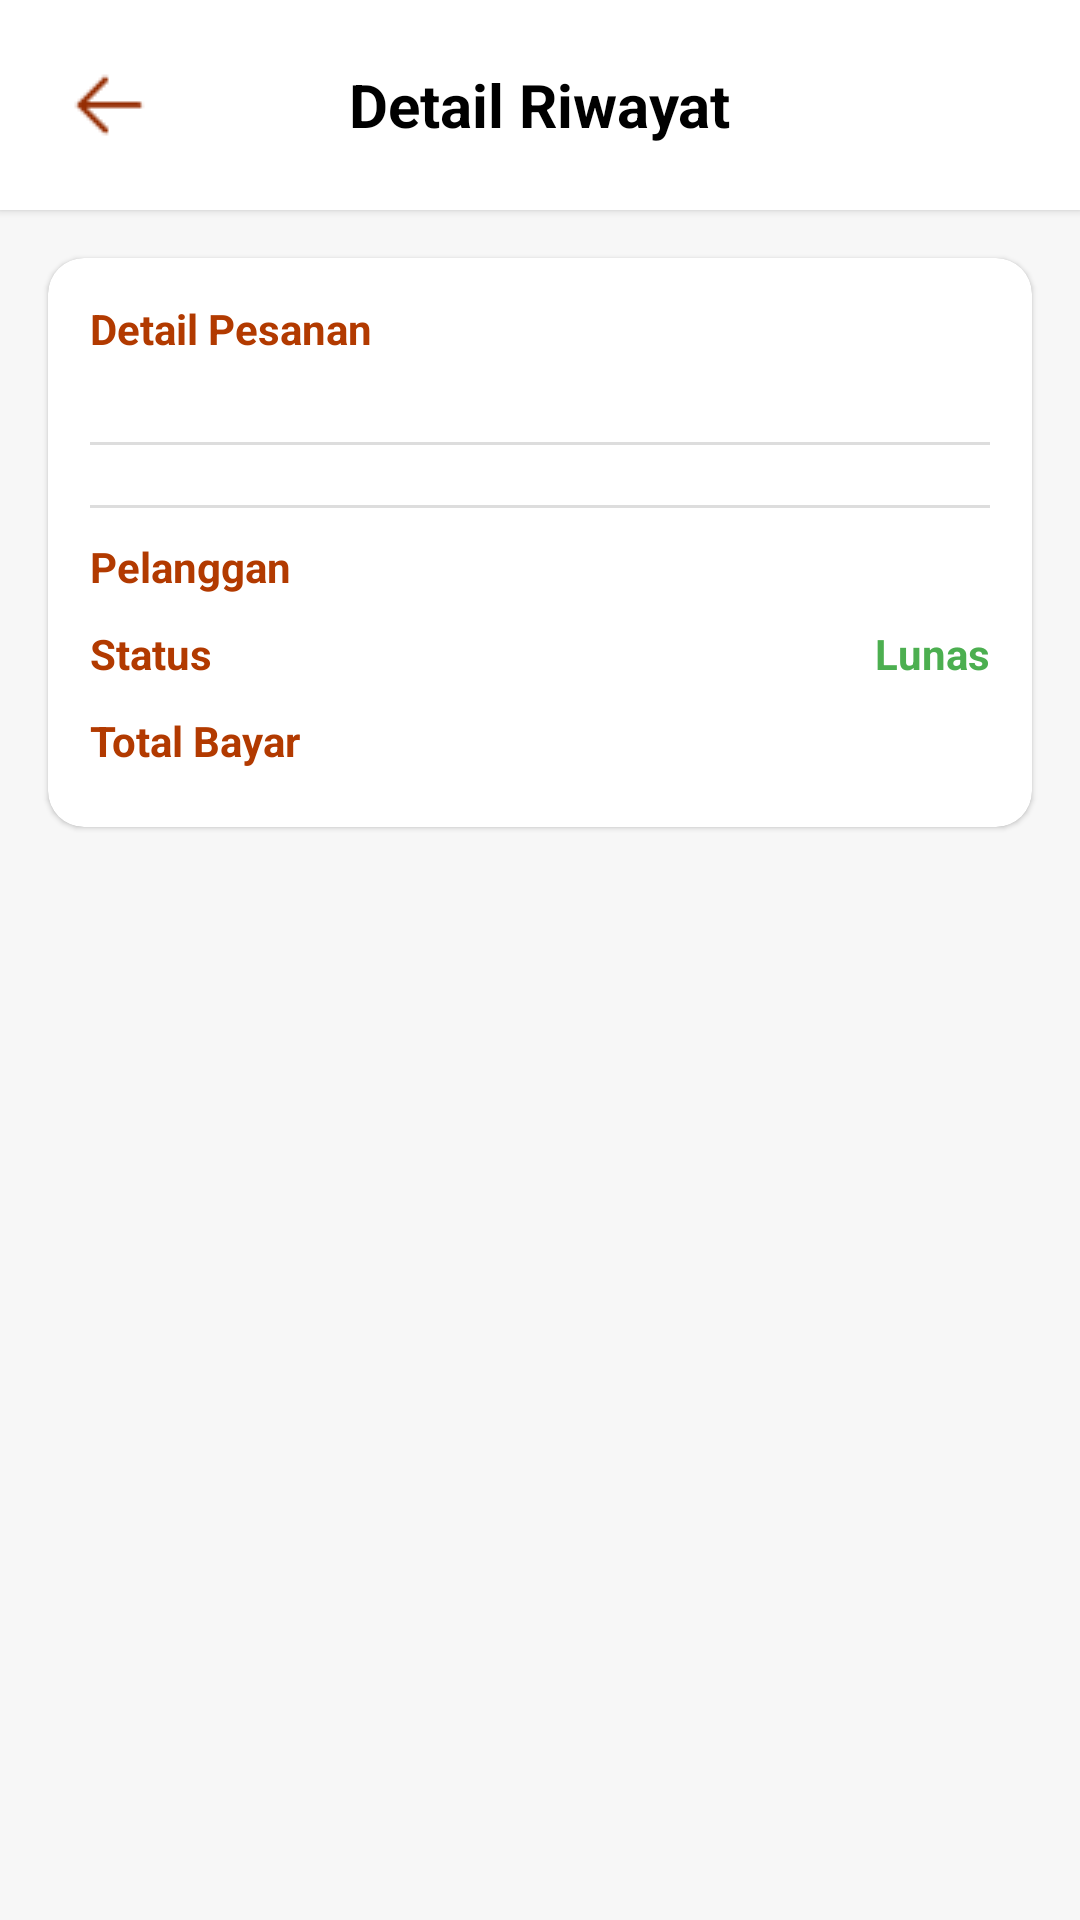

Screen size 1080w x 1920h. Icon name, then its center in pixels as point (x, y):
back: point (109, 105)
